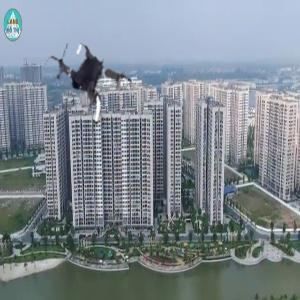drone: (36, 37, 137, 138)
